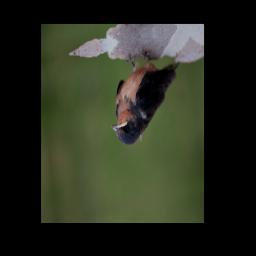Swallow: (104, 40, 186, 151)
